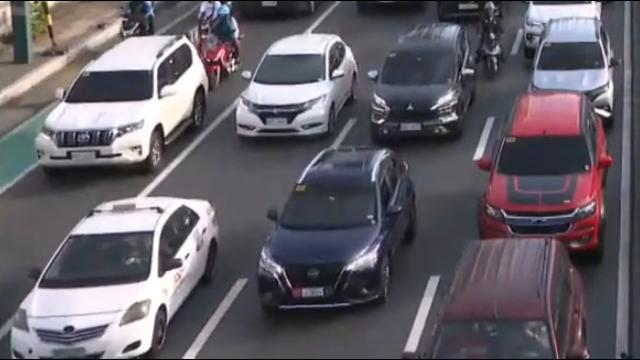car: (4, 196, 219, 360), (255, 146, 417, 312), (33, 33, 208, 175), (399, 232, 592, 360), (468, 90, 616, 252), (233, 30, 360, 144), (368, 21, 475, 139), (525, 12, 625, 129)
motorcycle: (201, 7, 242, 92), (111, 0, 158, 48), (478, 0, 505, 78)
